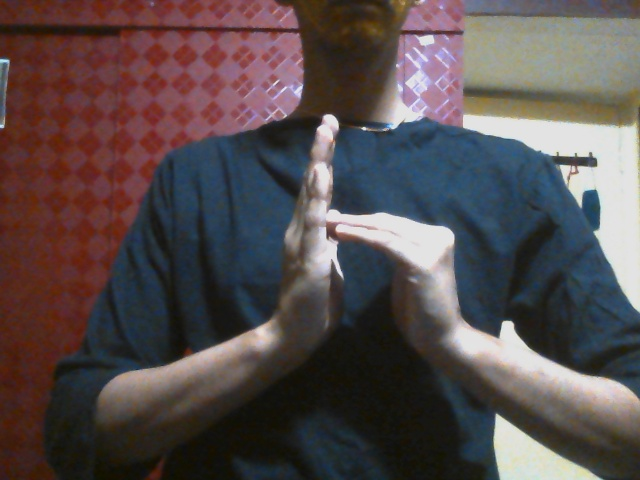Z: (262, 112, 465, 375)
